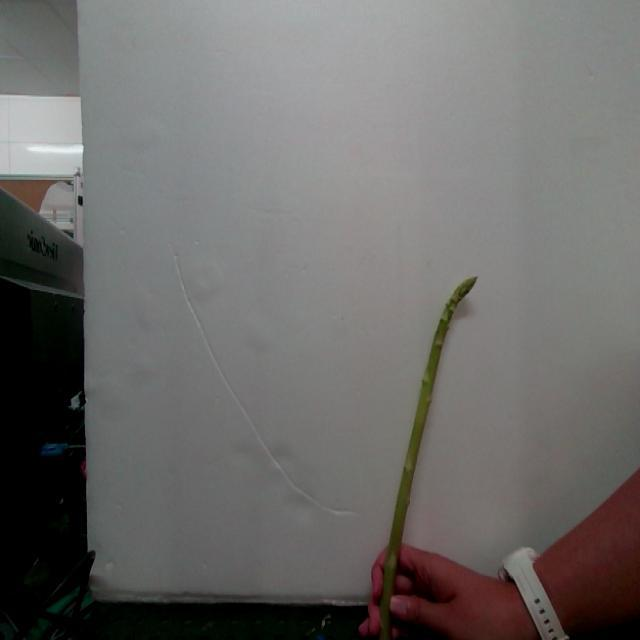aspargus: (363, 279, 478, 640)
